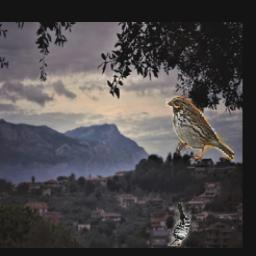Sparrow: (165, 96, 234, 164)
Woodpecker: (169, 202, 193, 246)
